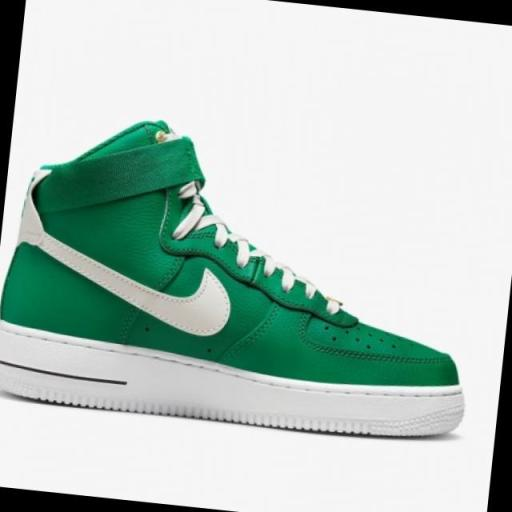Nike: (40, 240, 243, 346)
